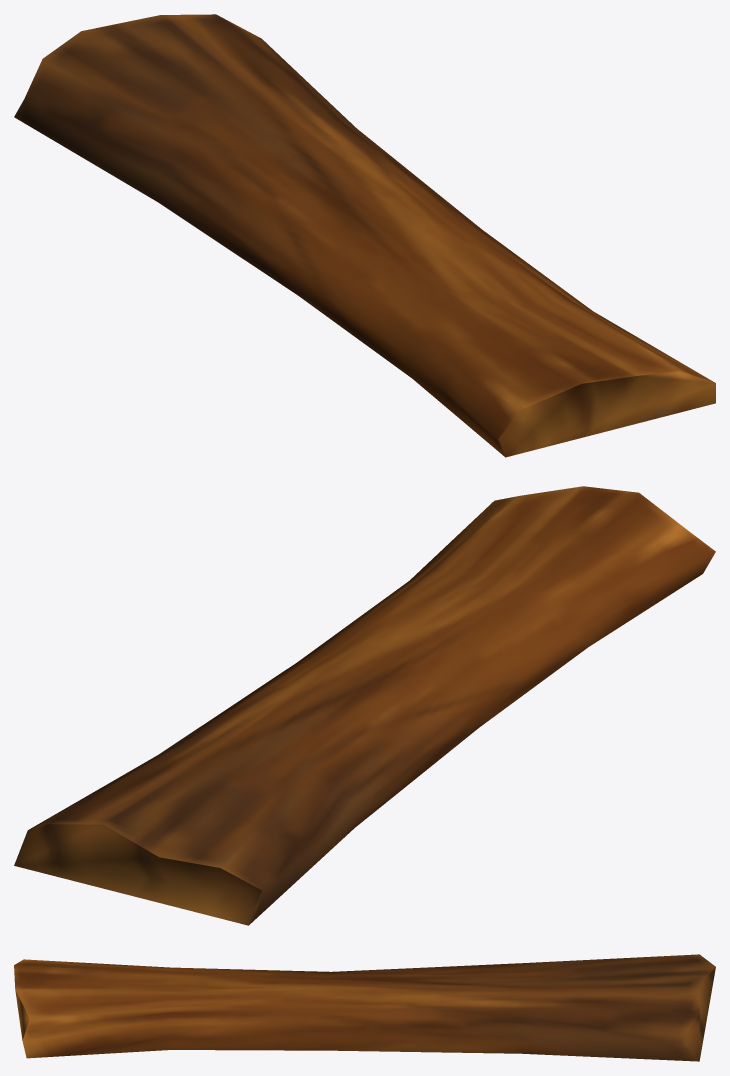
The model's file is wood_2.fbx.
3 renders of one model, top to bottom at view 1: azimuth 30°, elevation 25°; view 2: azimuth 150°, elevation 25°; view 3: azimuth 270°, elevation 25°, orthographic. The views are drawn at different scales.
Parts seen in each view (by area): view 1: wood_2; view 2: wood_2; view 3: wood_2.
Boxes of the visible parts, left/top/right/bottom form: wood_2: left=14, top=14, right=715, bottom=457; wood_2: left=14, top=486, right=715, bottom=925; wood_2: left=14, top=954, right=715, bottom=1061.
Bounding box in the file's own units: 0.7276 × 0.1933 × 2.6.
